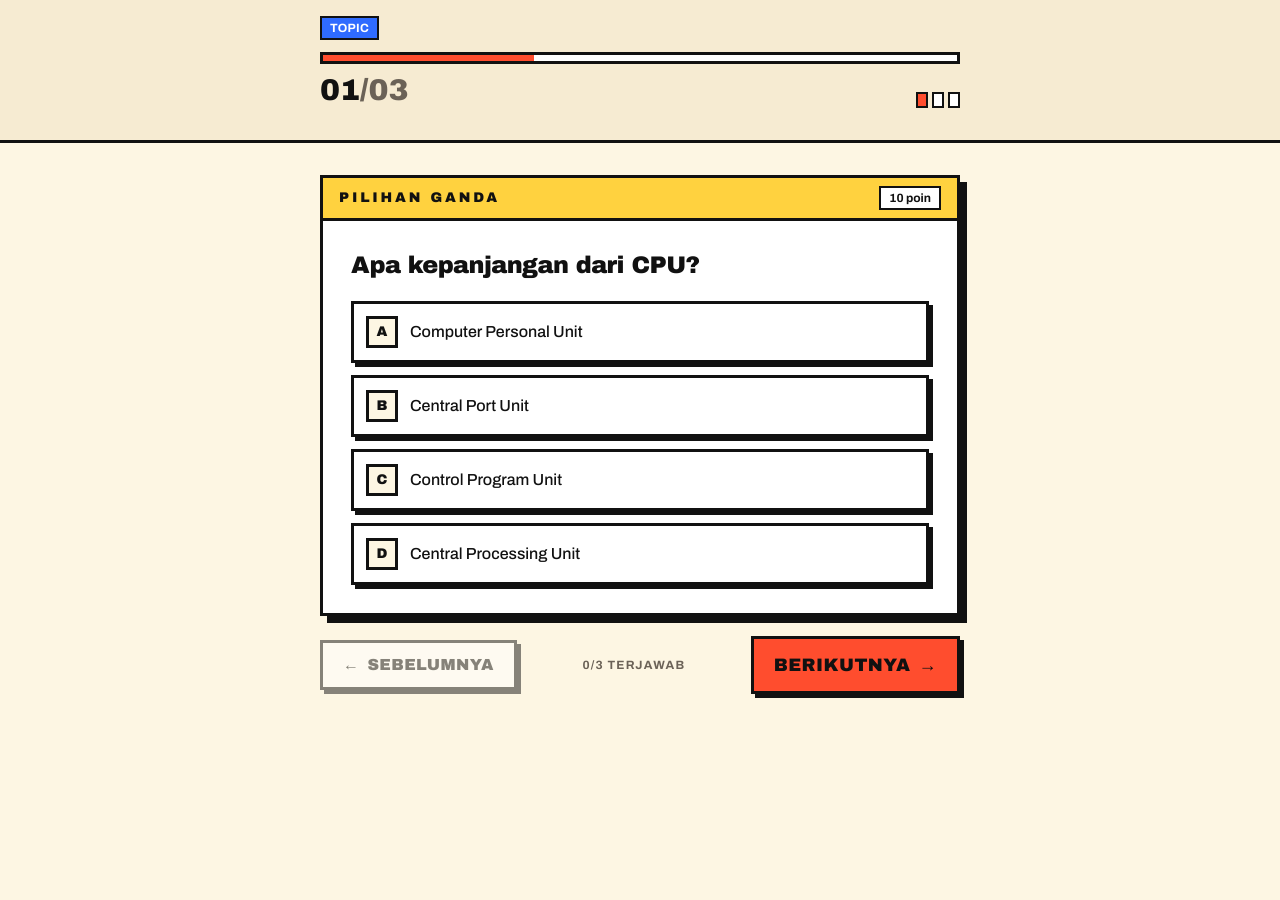
Test: QuizPlay page › displays error banner and re-enables submit button if submission fails
The image size is (1280, 900).
Expected: the heading "Apa kepanjangan dari CPU?" is shown, [351,252,700,278]
Navigate to last question
Click the button "Berikutnya →": (855, 665) [751,636,960,694]
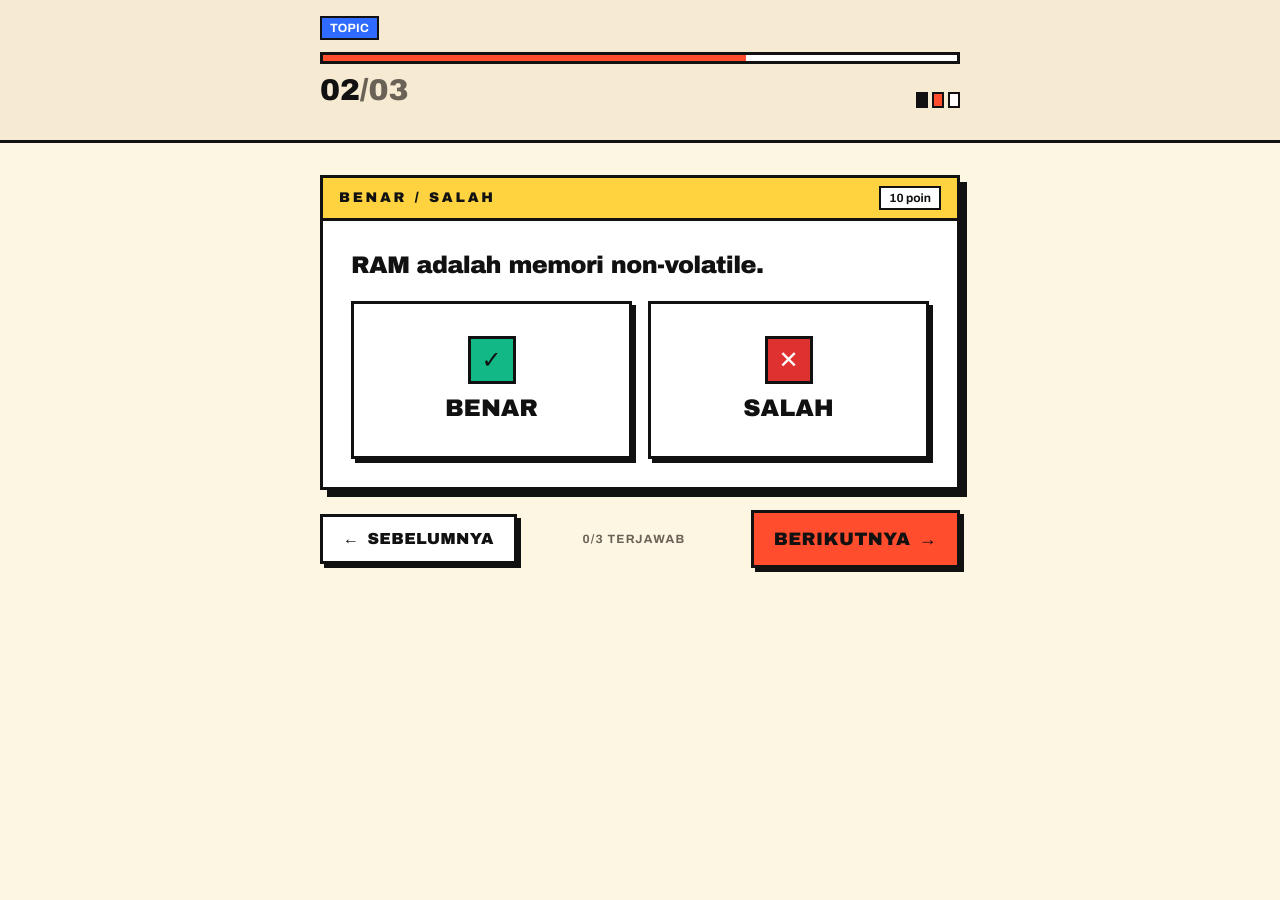
Now the heading "RAM adalah memori non-volatile." is shown, box [351,252,763,278]
Click the button "Berikutnya →": (855, 539) [751,510,960,568]
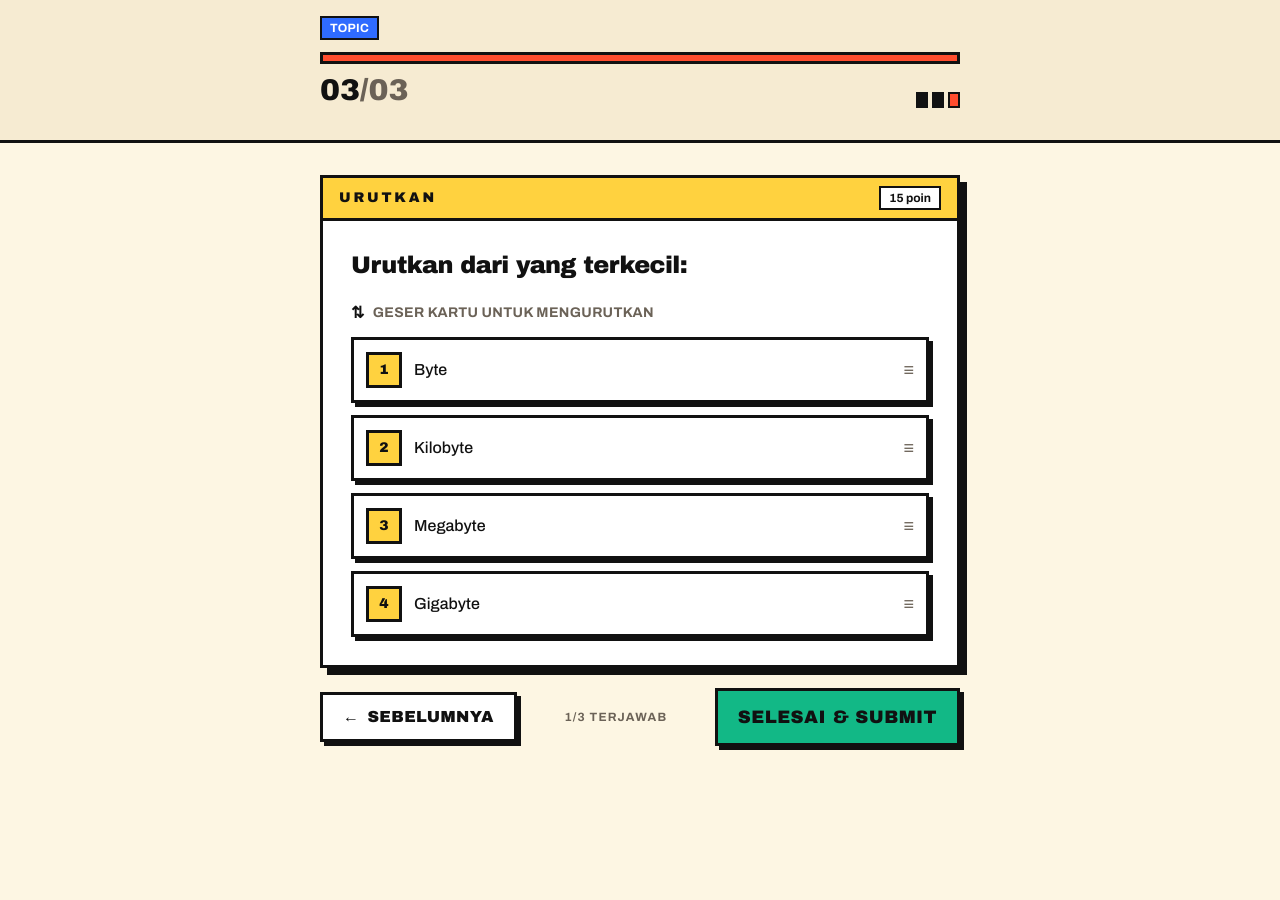
Now the heading "Urutkan dari yang terkecil:" is shown, box [351,252,687,278]
Click the button "Selesai & Submit": (837, 717) [715,688,960,746]
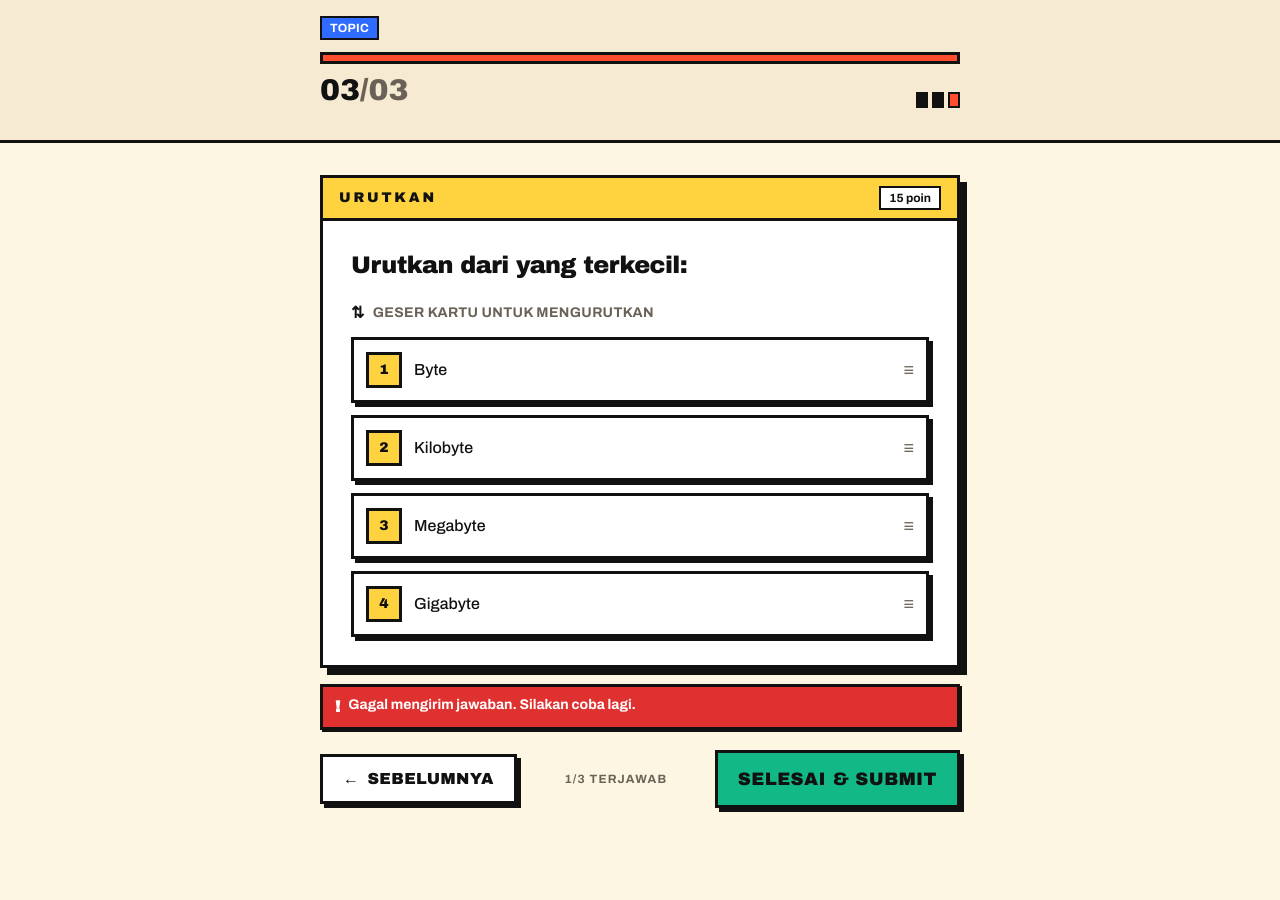
Expected: the button "Selesai & Submit" is enabled, [715,750,960,808]
Now the message shows "Gagal mengirim jawaban. Silakan coba lagi.", box [348,697,636,712]
